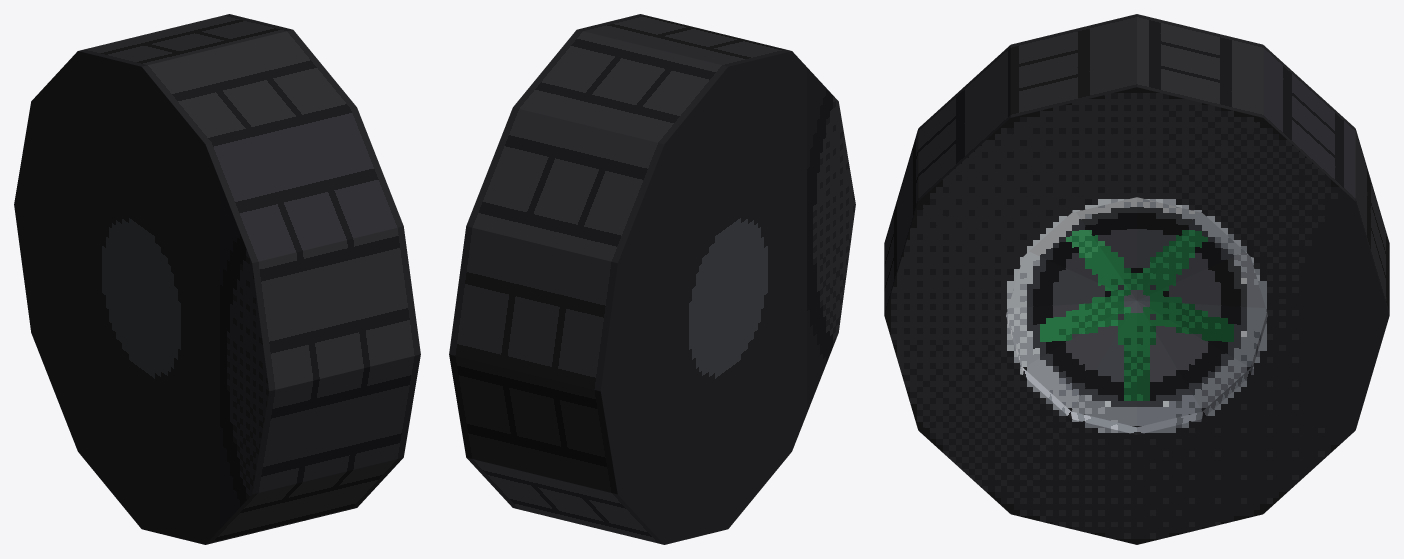
The model's file is wheel_five.glb.
3 renders of one model, left to right at view 1: azimuth 30°, elevation 25°; view 2: azimuth 150°, elevation 25°; view 3: azimuth 270°, elevation 25°, orthographic.
Parts seen in each view (by area): view 1: wheel_five; view 2: wheel_five; view 3: wheel_five.
Boxes of the visible parts, x1=… form: wheel_five: x1=14, y1=14, x2=420, y2=544; wheel_five: x1=449, y1=14, x2=855, y2=544; wheel_five: x1=884, y1=14, x2=1389, y2=544.
Bounding box in the file's own units: 0.285 × 0.8308 × 0.8308.
Materials: 1 (1 with a texture image).
